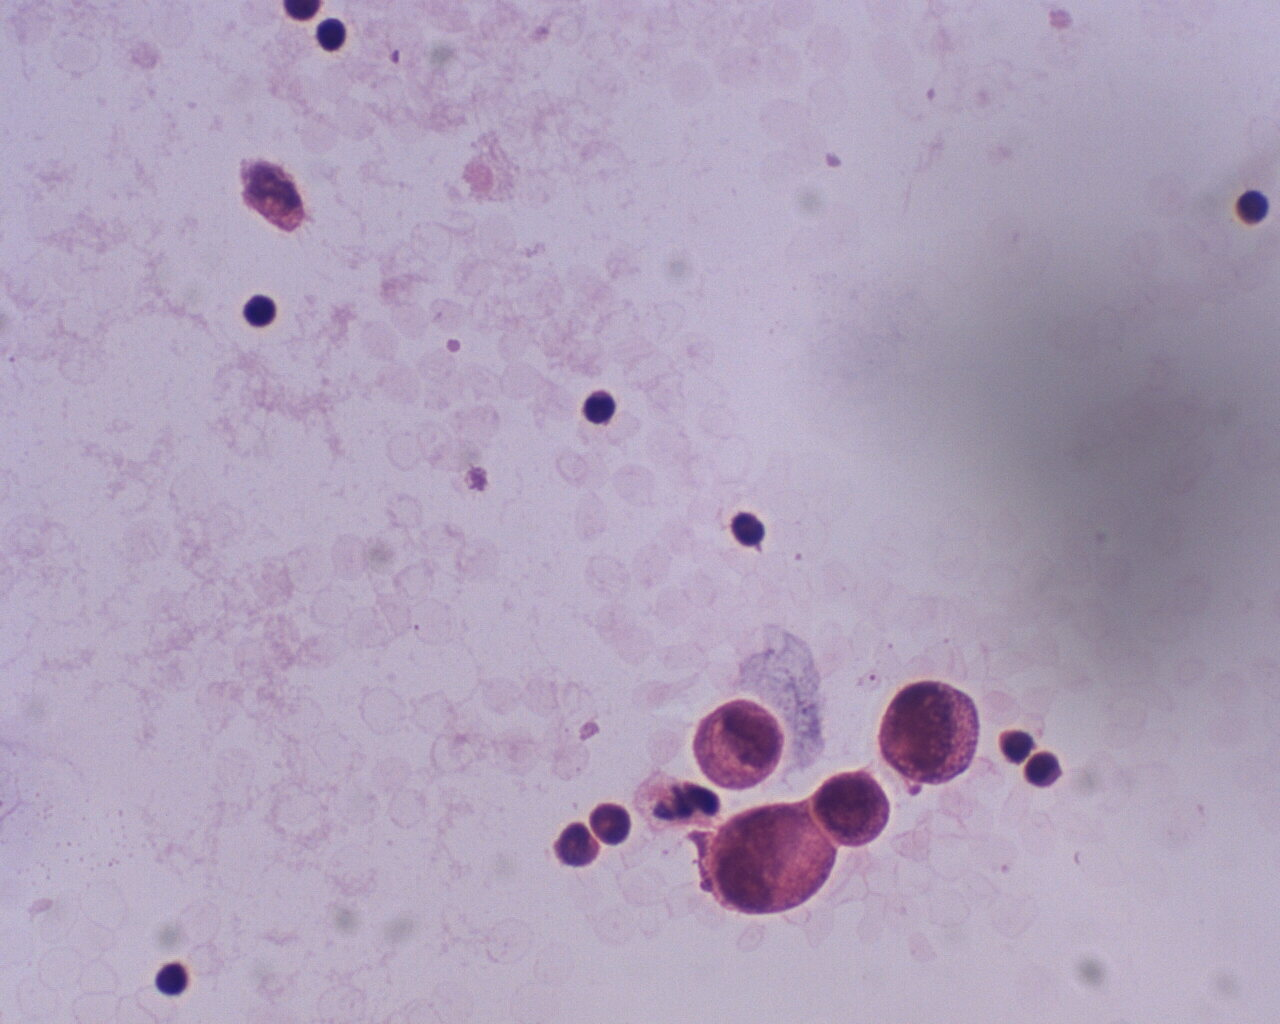ab: (717, 802, 838, 922), (877, 671, 982, 794), (694, 688, 794, 795), (815, 758, 894, 854)
lymph: (572, 381, 637, 430), (235, 284, 288, 333), (308, 14, 357, 55), (152, 953, 196, 998)
